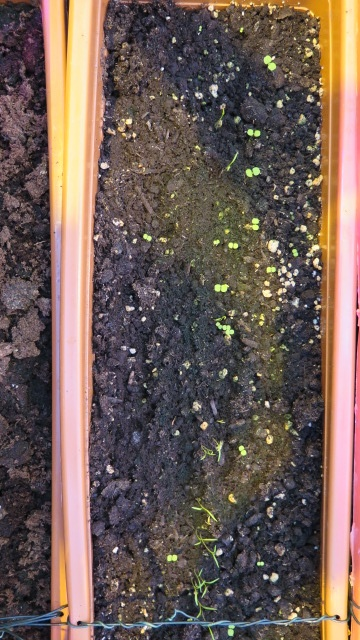crop: (194, 569, 219, 598), (191, 502, 221, 524), (191, 600, 219, 617), (191, 534, 221, 549), (200, 543, 219, 566), (199, 446, 216, 463)
weed: (262, 52, 278, 76), (244, 164, 261, 181), (211, 281, 230, 294), (238, 440, 248, 464), (245, 126, 262, 140), (164, 551, 179, 565), (250, 215, 260, 234), (227, 238, 240, 252), (263, 262, 277, 275), (140, 230, 152, 245), (290, 246, 299, 259), (226, 626, 236, 636), (214, 322, 222, 330), (226, 329, 234, 336)
